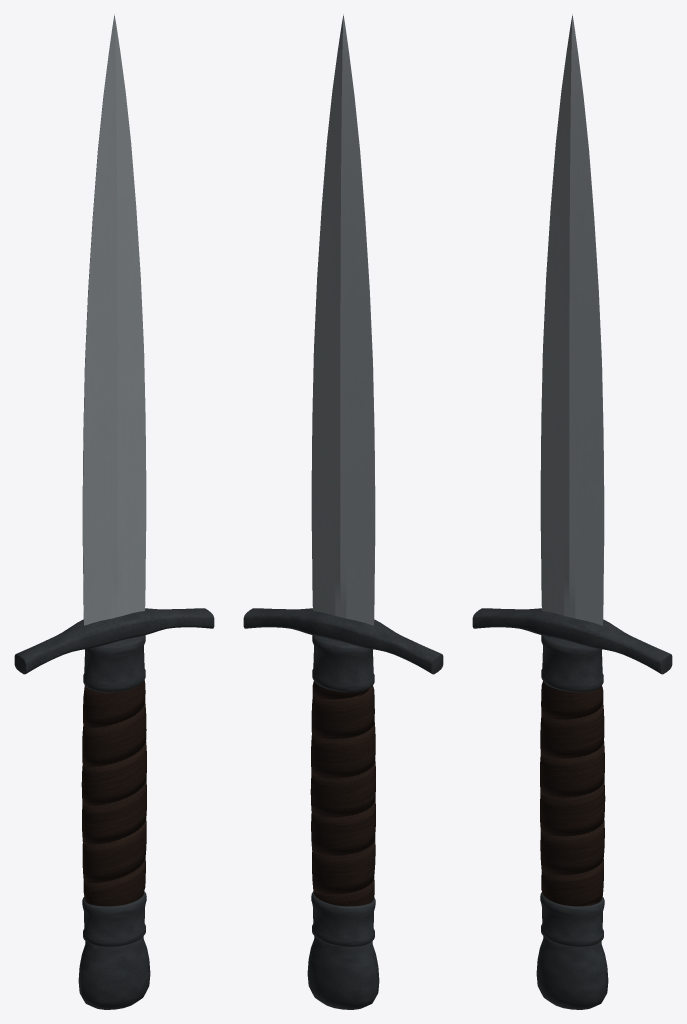
File: Aetheria_T1_Dagger.fbx
3 renders of one model, left to right at view 1: azimuth 30°, elevation 25°; view 2: azimuth 150°, elevation 25°; view 3: azimuth 330°, elevation 25°, orthographic.
Parts seen in each view (by area): view 1: Dagger_01_DiamondBlade, Dagger_04_LeatherWrap, Dagger_02_CompactGuard, Dagger_07_FacetedPommel, Dagger_05_UpperFerrule, Dagger_06_LowerFerrule; view 2: Dagger_01_DiamondBlade, Dagger_04_LeatherWrap, Dagger_02_CompactGuard, Dagger_07_FacetedPommel, Dagger_05_UpperFerrule, Dagger_06_LowerFerrule; view 3: Dagger_01_DiamondBlade, Dagger_04_LeatherWrap, Dagger_02_CompactGuard, Dagger_07_FacetedPommel, Dagger_05_UpperFerrule, Dagger_06_LowerFerrule.
Boxes of the visible parts, bbox=[...] form: Dagger_01_DiamondBlade: bbox=[82, 14, 146, 625]; Dagger_04_LeatherWrap: bbox=[81, 680, 146, 906]; Dagger_02_CompactGuard: bbox=[14, 608, 214, 674]; Dagger_07_FacetedPommel: bbox=[78, 936, 150, 1009]; Dagger_05_UpperFerrule: bbox=[83, 635, 145, 692]; Dagger_06_LowerFerrule: bbox=[82, 891, 146, 947]; Dagger_01_DiamondBlade: bbox=[311, 14, 375, 625]; Dagger_04_LeatherWrap: bbox=[310, 681, 375, 906]; Dagger_02_CompactGuard: bbox=[243, 608, 443, 674]; Dagger_07_FacetedPommel: bbox=[307, 936, 379, 1009]; Dagger_05_UpperFerrule: bbox=[312, 635, 374, 692]; Dagger_06_LowerFerrule: bbox=[311, 891, 375, 947]; Dagger_01_DiamondBlade: bbox=[540, 14, 604, 625]; Dagger_04_LeatherWrap: bbox=[540, 681, 605, 906]; Dagger_02_CompactGuard: bbox=[472, 608, 672, 674]; Dagger_07_FacetedPommel: bbox=[536, 936, 608, 1009]; Dagger_05_UpperFerrule: bbox=[541, 635, 603, 692]; Dagger_06_LowerFerrule: bbox=[540, 892, 604, 947].
Bounding box in the file's own units: 0.082 × 0.4119 × 0.0208.
Materials: 3 (3 with a texture image).
